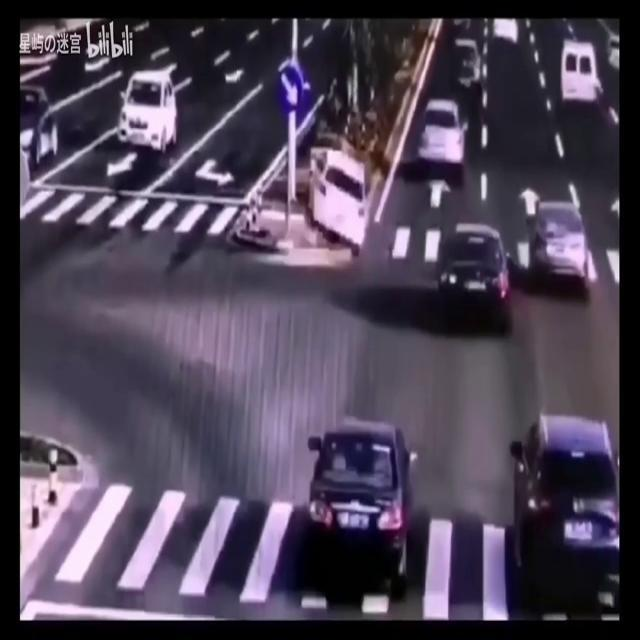normal: (273, 388, 425, 607), (95, 47, 197, 195), (420, 207, 528, 338)
single accident: (267, 107, 390, 262)
